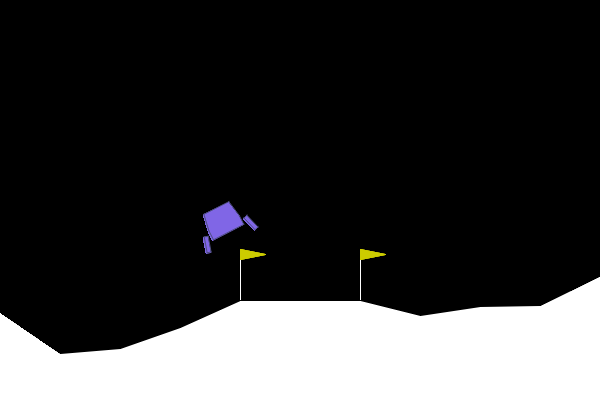lander: (188, 193, 260, 256)
